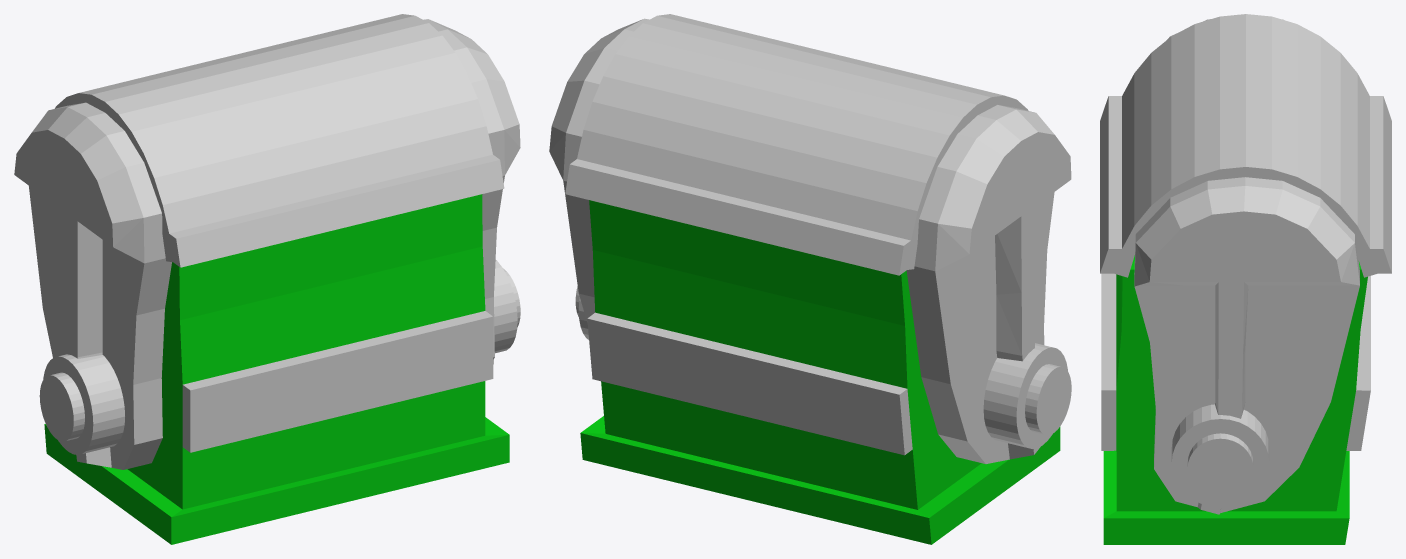
Rendered from contenedor1.dae.
3 views of the same model, side by side, from view 1: azimuth 30°, elevation 25°; view 2: azimuth 150°, elevation 25°; view 3: azimuth 270°, elevation 25° (orthographic). The views are drawn at different scales.
Parts seen in each view (by area): view 1: Cube_003; view 2: Cube_003; view 3: Cube_003.
Boxes of the visible parts, x1=… form: Cube_003: x1=14, y1=14, x2=520, y2=544; Cube_003: x1=549, y1=14, x2=1071, y2=544; Cube_003: x1=1100, y1=14, x2=1391, y2=544.
Size of the model in its own units: 40.82 by 23.88 by 33.82.
